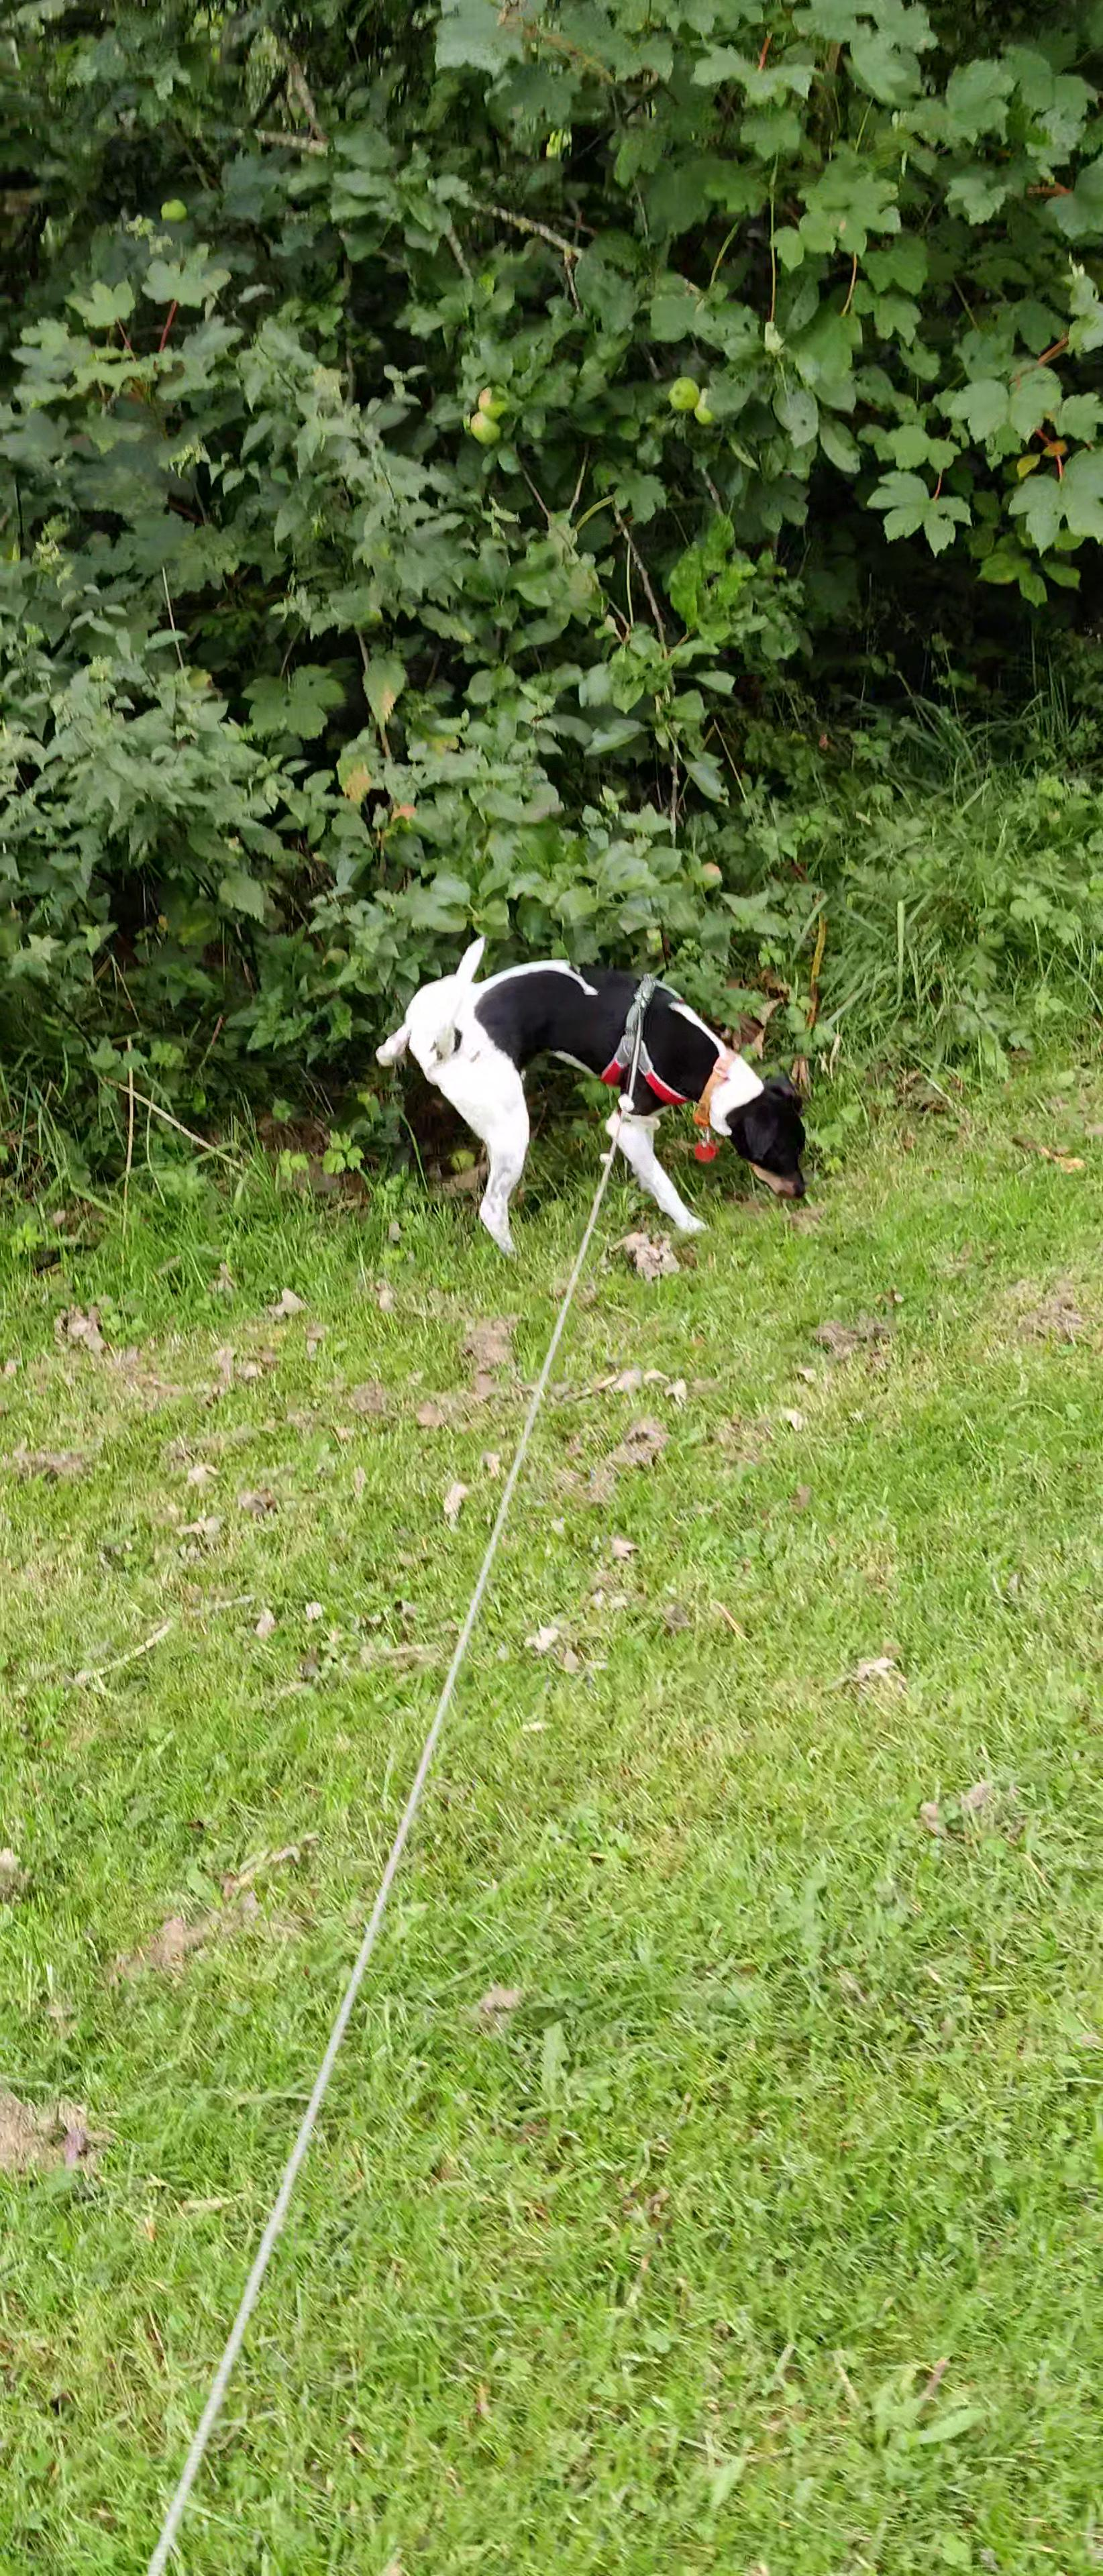Dog: (355, 907, 830, 1275)
